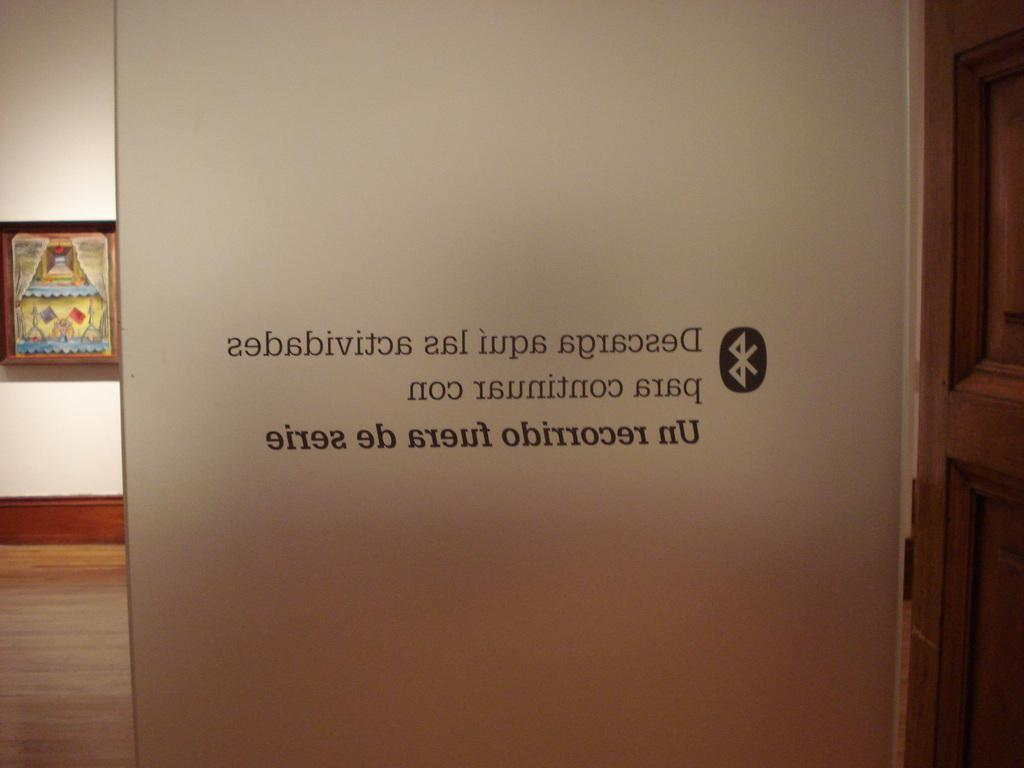door: (920, 74, 1000, 760)
